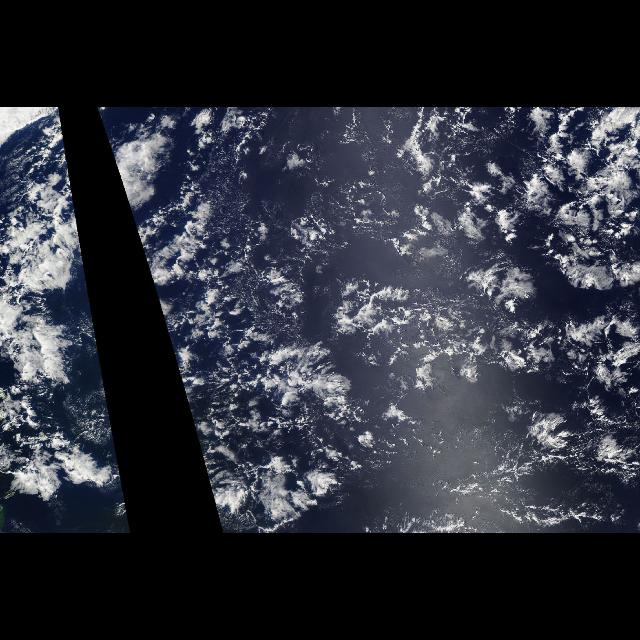Flower: (199, 108, 633, 524)
